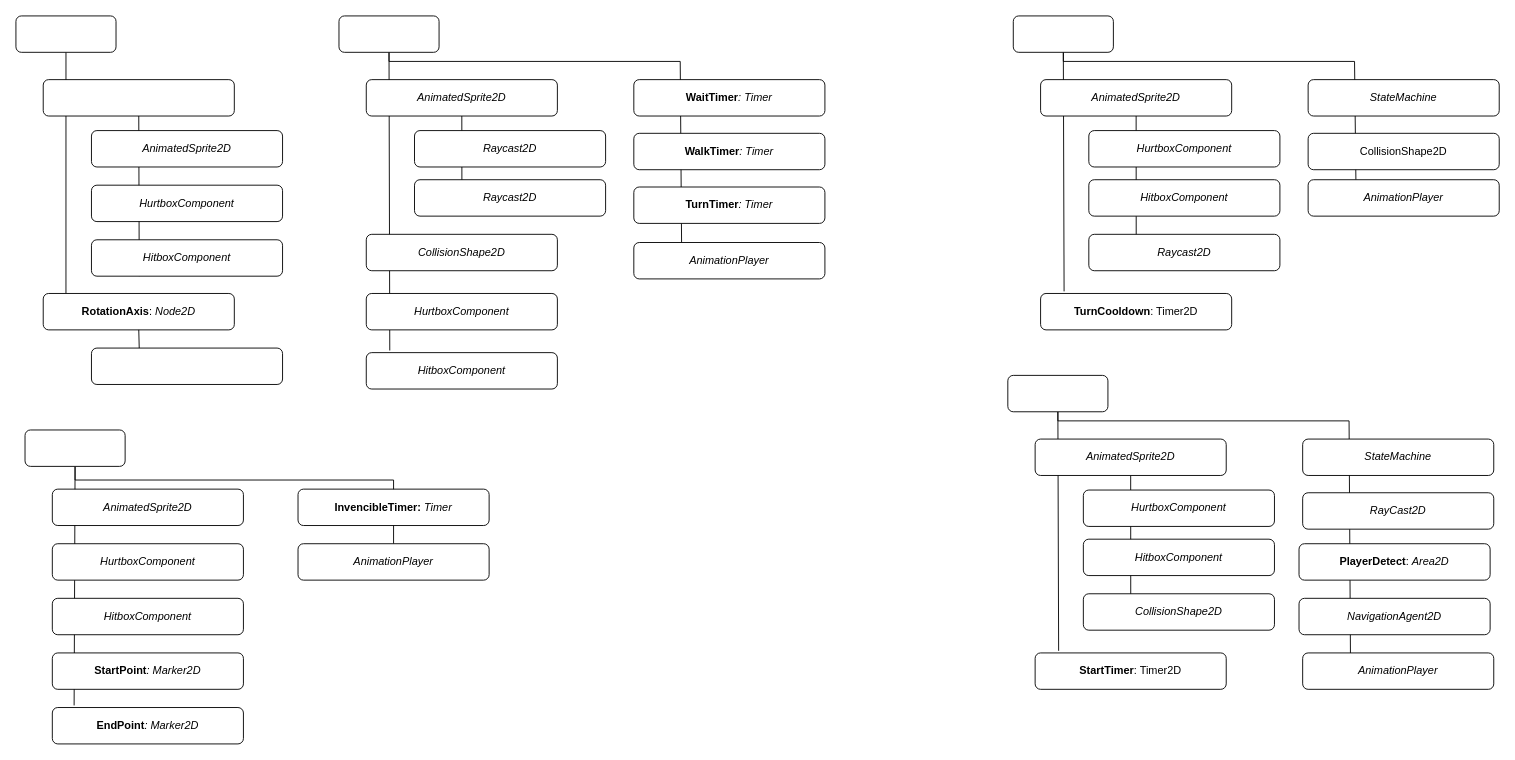
Some shapes in this 1515 by 760 pixel diagram are drawn without their labels. The box of each missing label's shape, as (x1, y1, x2, y2) in pixels:
Axolote: (1012, 15, 1113, 52)
Blob: (338, 15, 439, 52)
Character : Node2D: (42, 79, 234, 116)
Jellyfish: (15, 15, 116, 52)
JellyPosition : Marker2D: (91, 347, 283, 384)
Piranha: (24, 429, 125, 466)
TriangleFish: (1007, 374, 1108, 412)
